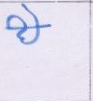e_matra: (21, 3, 42, 25)
